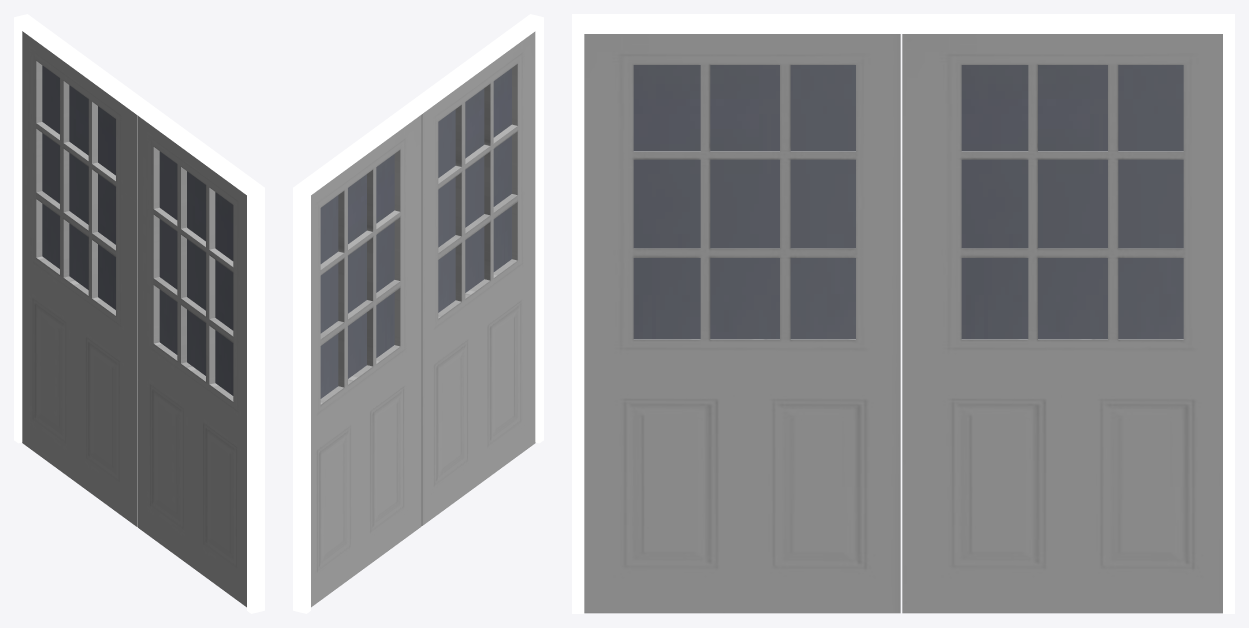
Rendered from double_door_9_light.b2214031.gltf.
3 views of the same model, side by side, from view 1: azimuth 30°, elevation 25°; view 2: azimuth 150°, elevation 25°; view 3: azimuth 270°, elevation 25° (orthographic). The views are drawn at different scales.
Parts seen in each view (by area): view 1: doors, trim; view 2: doors, trim; view 3: doors, trim.
Part boxes in pixels (x1,y1,x2,y2): doors: (22,31,246,607); trim: (14,14,264,613); doors: (311,31,535,607); trim: (293,14,543,613); doors: (584,34,1222,613); trim: (572,14,1234,613).
Size of the model in its own units: 0.2 by 6.01 by 6.1.
Materials: 3 (2 with a texture image).
